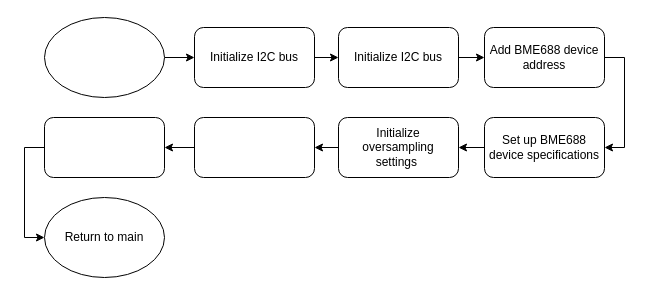
The diagram is 650 pixels wide and 295 high, and some of its shapes have lost their labels. Here are the shapes that lost their labels. From the top down, the centre of each, then its label:
point (104, 57): Initialize BME688 Sensor
point (104, 147): Set operation mode to forced mode
point (254, 147): Set up heater config
